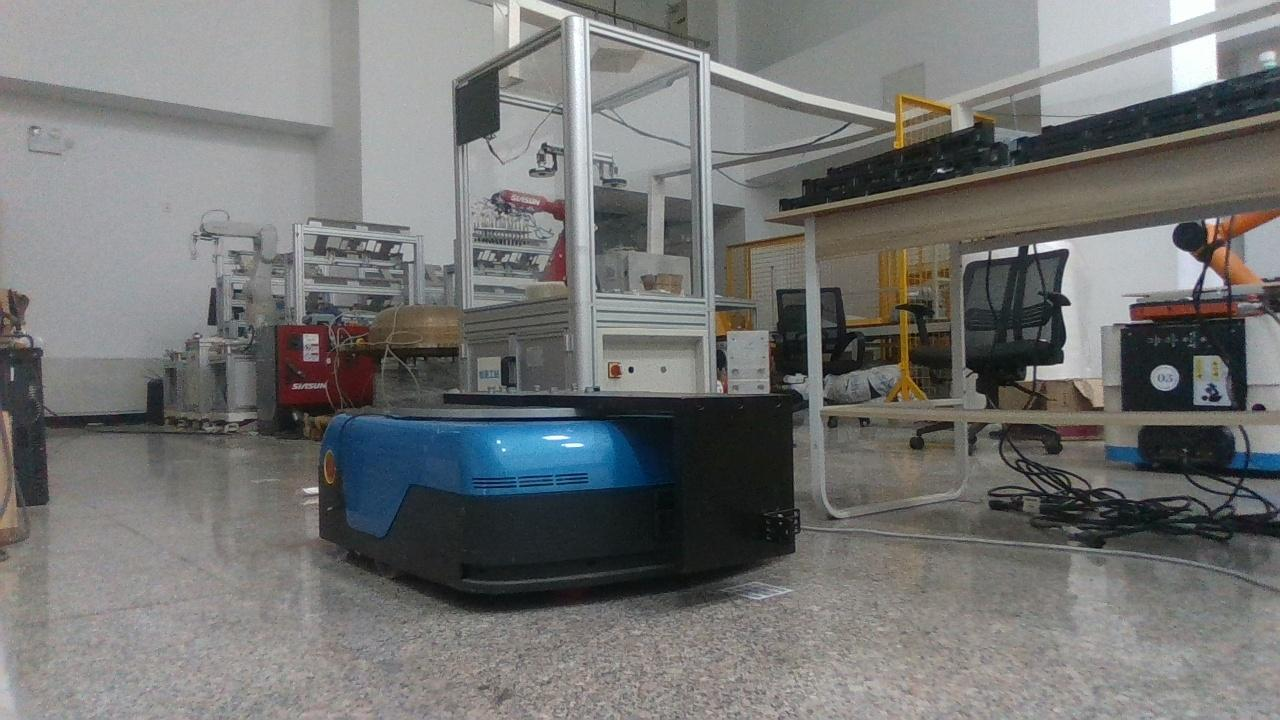AGV: (318, 392, 801, 591)
